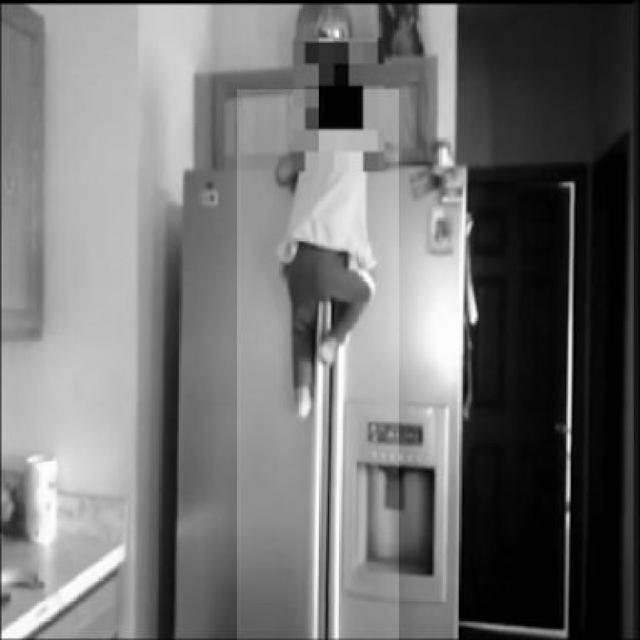child: (237, 89, 400, 640)
